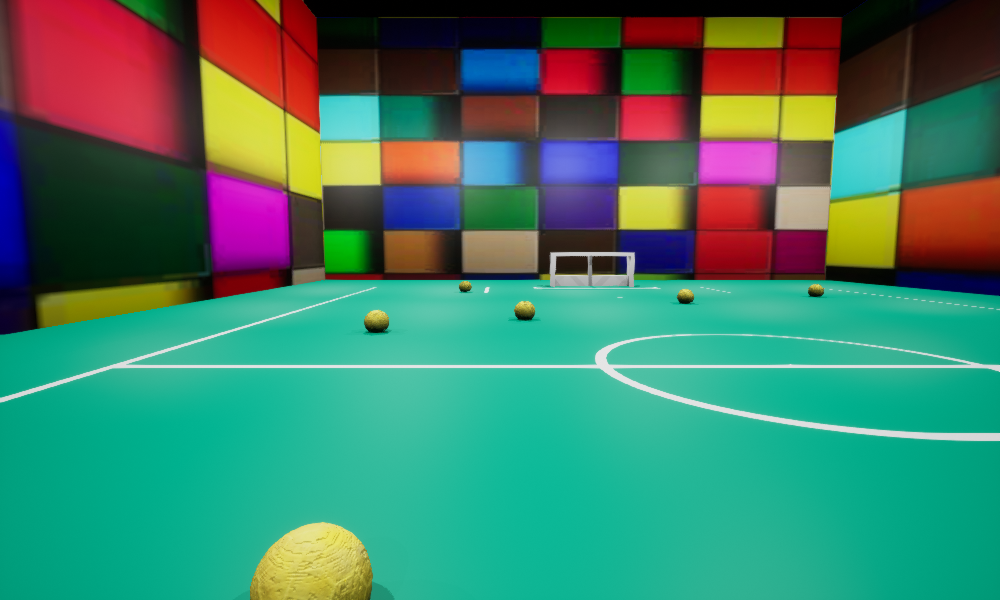b: (250, 522, 372, 599), (364, 310, 388, 332), (514, 301, 534, 319), (677, 289, 693, 303), (808, 284, 823, 296), (459, 281, 471, 291)
g: (550, 252, 634, 286)
